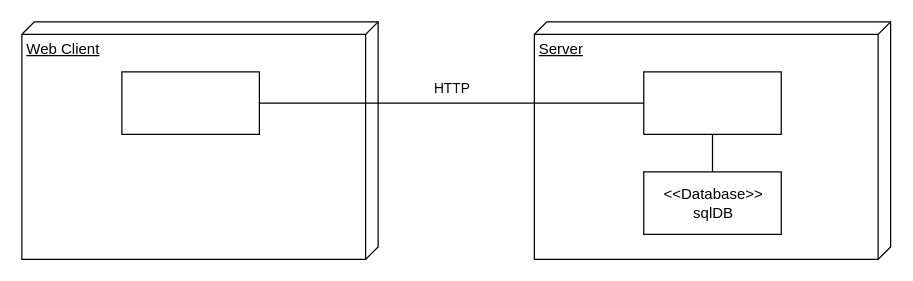
Some shapes in this 913 by 281 pixel diagram are drawn without their labels. Here are the shapes that lost their labels. From the top down, the centre of each, then its label:
At (x=190, y=102): "<<UI>> Angular".
At (x=711, y=102): "<<Web App>> node.js".
